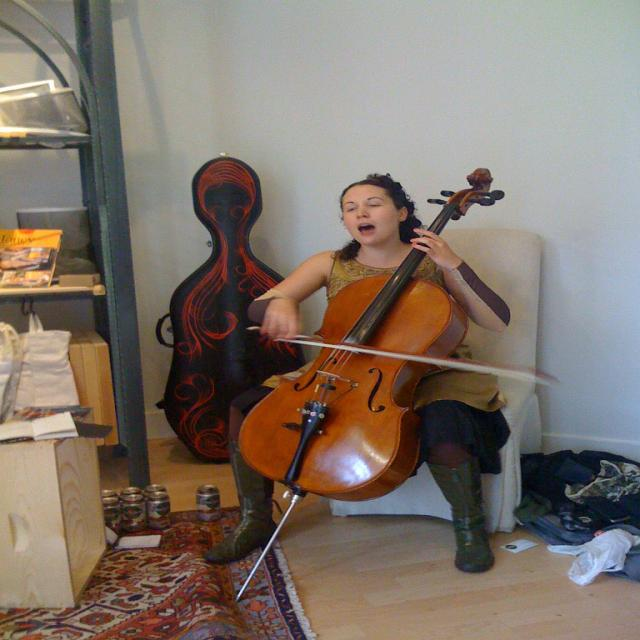cello: (234, 167, 510, 503)
